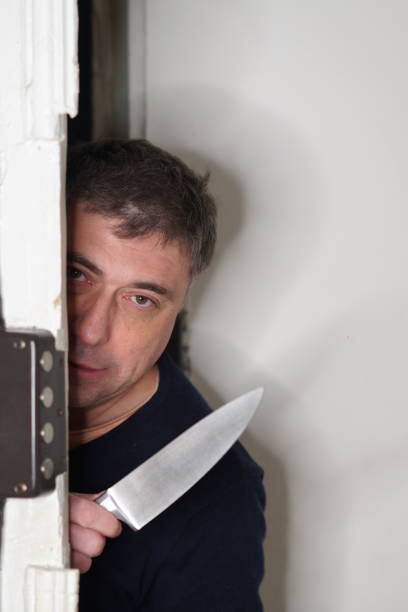knife: (104, 384, 267, 536)
